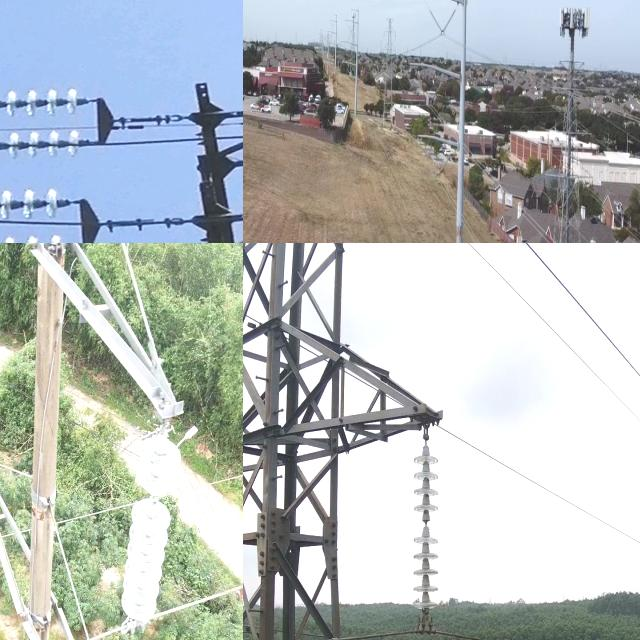杆塔: (243, 243, 453, 640), (170, 67, 243, 243), (539, 48, 587, 243), (380, 14, 397, 128)
正常电缆: (458, 243, 640, 432), (428, 407, 640, 556), (0, 463, 243, 551), (517, 243, 640, 392), (67, 572, 243, 640)
正常绝缘子: (111, 418, 183, 636), (406, 425, 444, 625), (0, 84, 96, 119), (0, 130, 100, 161), (0, 188, 81, 226), (427, 6, 446, 38), (440, 8, 458, 37)
绝缘子破损: (145, 496, 162, 506), (421, 516, 431, 532)
